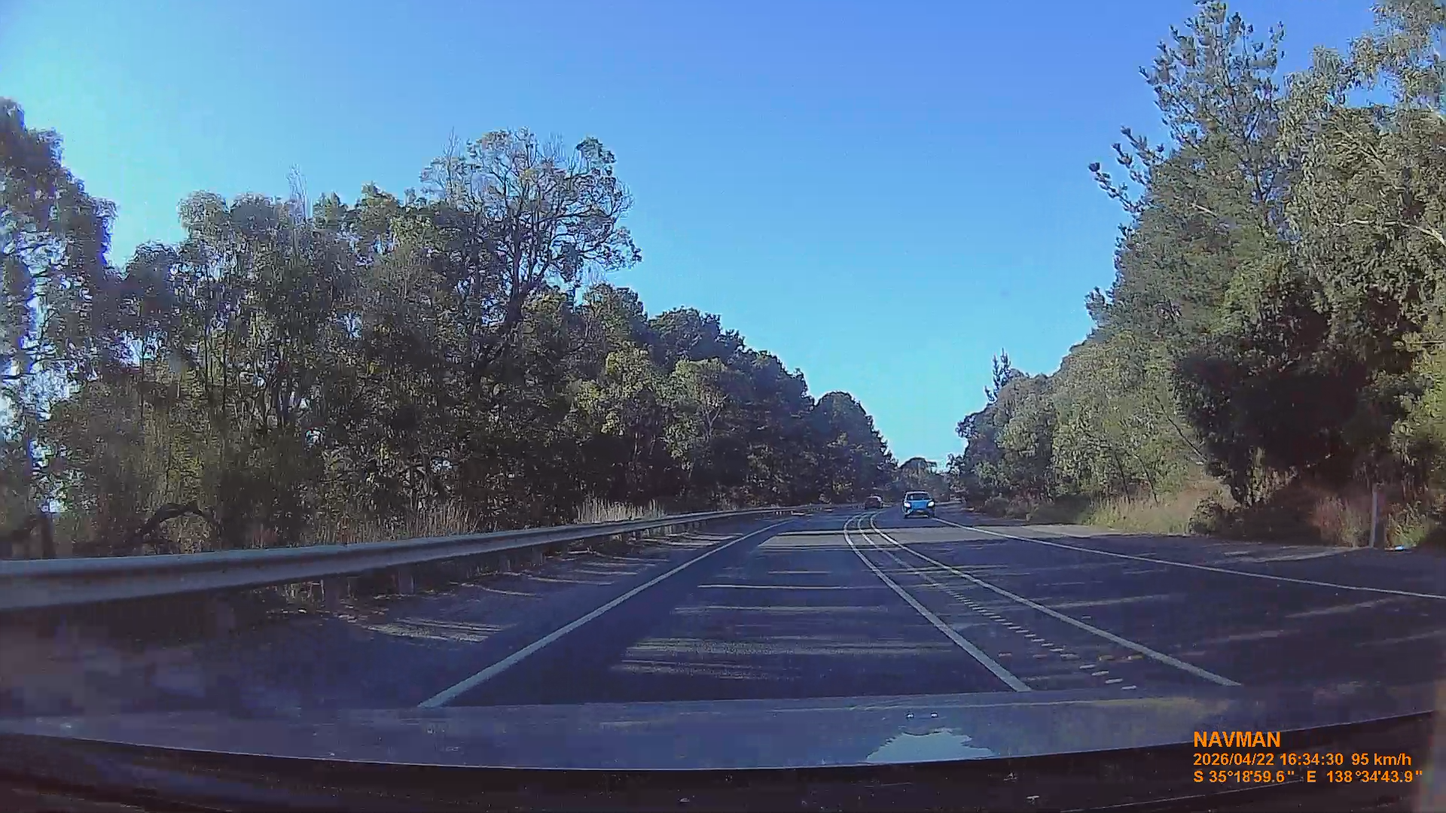road barriers: (0, 513, 762, 615), (604, 511, 778, 546)
